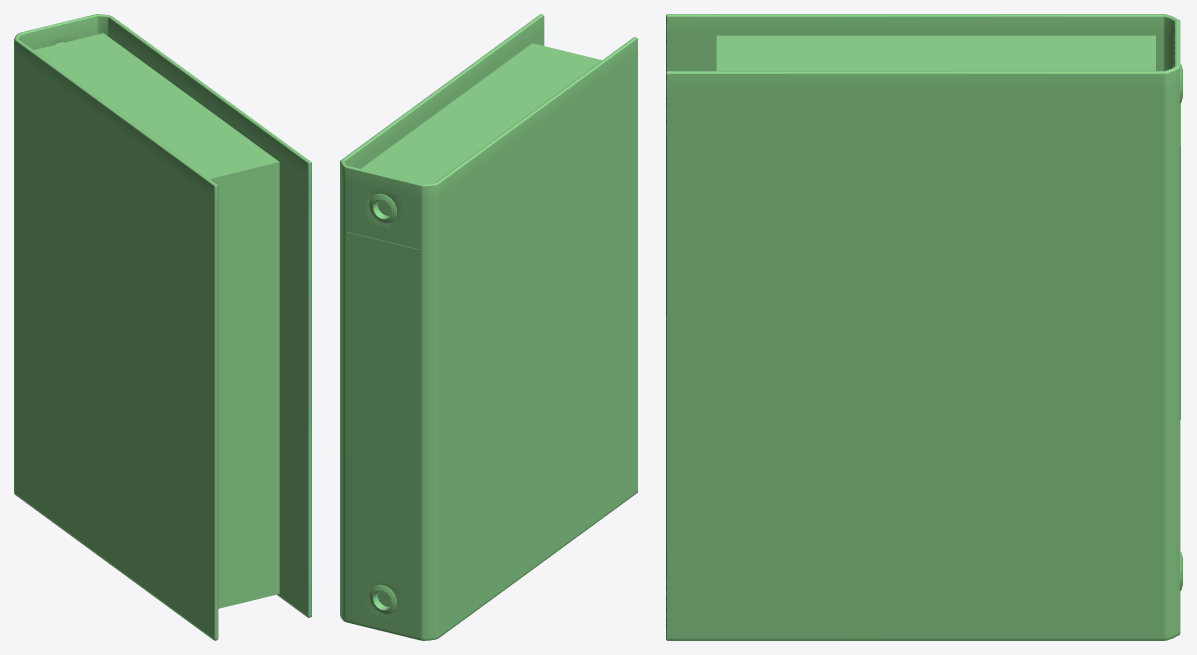
File: Folder.fbx
3 renders of one model, left to right at view 1: azimuth 30°, elevation 25°; view 2: azimuth 150°, elevation 25°; view 3: azimuth 270°, elevation 25°, orthographic. The views are drawn at different scales.
Parts seen in each view (by area): view 1: polySurface164; view 2: polySurface164; view 3: polySurface164.
Part boxes in pixels (x1,y1,x2,y2): polySurface164: (14,14,311,640); polySurface164: (340,14,637,640); polySurface164: (666,14,1182,640).
Bounding box in the file's own units: 0.0914 × 0.4052 × 0.3338.
